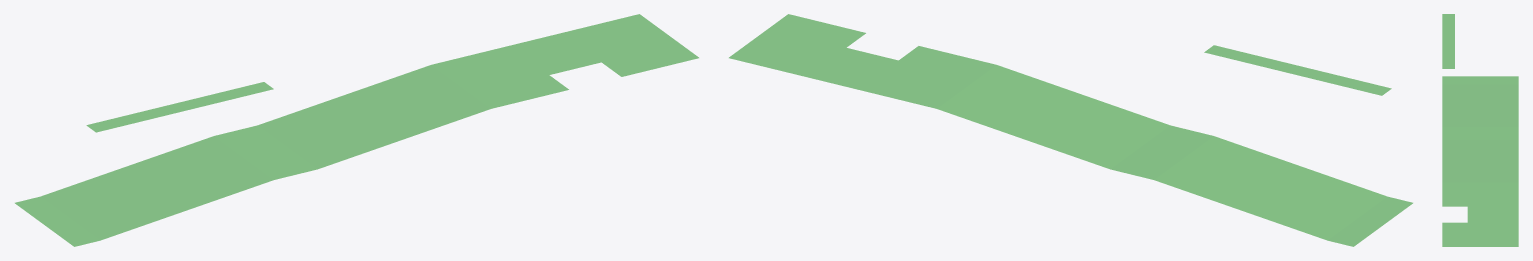
Rendered from D06_floor01.obj.
3 views of the same model, side by side, from view 1: azimuth 30°, elevation 25°; view 2: azimuth 150°, elevation 25°; view 3: azimuth 270°, elevation 25° (orthographic). The views are drawn at different scales.
Bounding box in the file's own units: 72 × 12 × 12.
